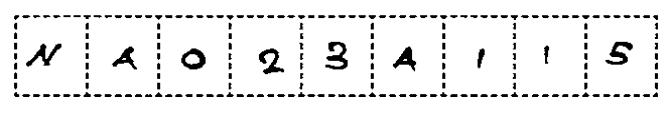0: (178, 40, 211, 74)
1: (461, 40, 495, 78), (529, 40, 565, 68)
2: (249, 43, 290, 79)
3: (318, 35, 352, 73)
5: (602, 34, 638, 69)
A: (108, 41, 144, 77), (390, 42, 419, 76)
N: (24, 38, 66, 72)
